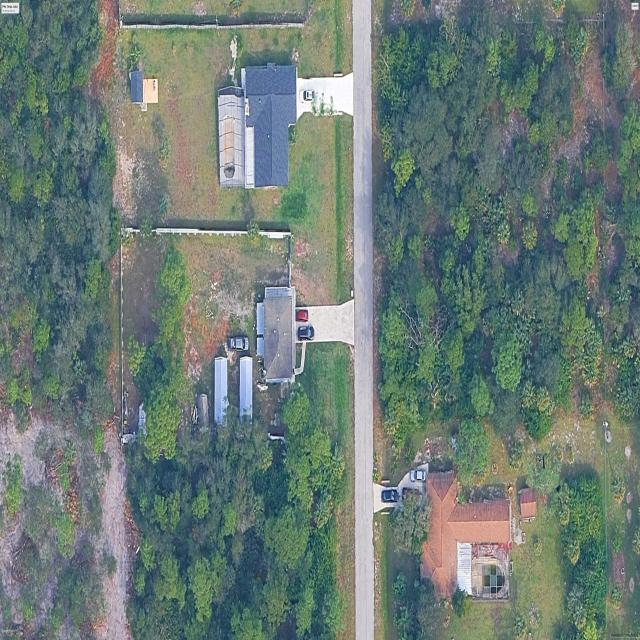Home: (421, 471, 511, 598), (243, 63, 297, 187), (262, 287, 295, 383), (218, 86, 246, 187)
